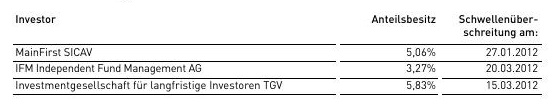table: (0, 0, 553, 105)
